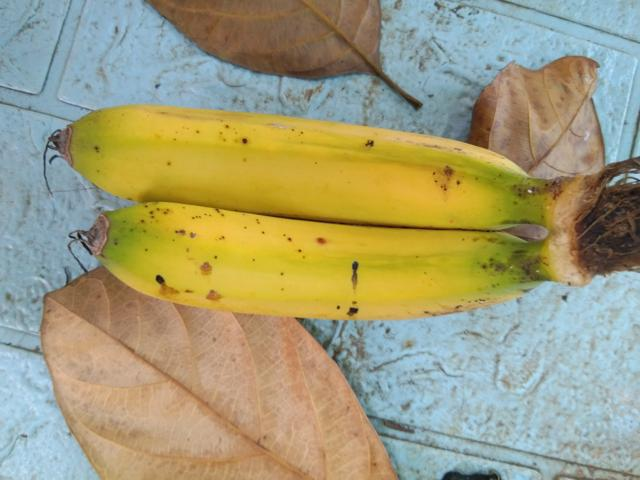freshripe: (79, 78, 516, 233)
ripe: (80, 188, 547, 374)
